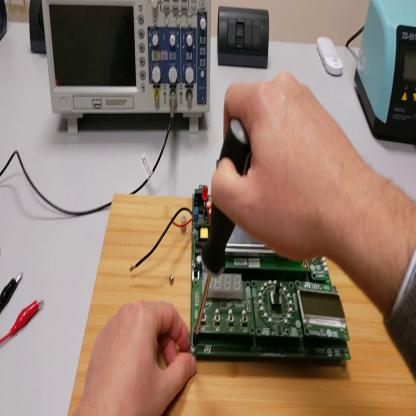hand: (213, 73, 355, 261), (85, 296, 199, 414)
low voltage board: (130, 187, 351, 362)
oscilloscope: (42, 2, 213, 137)
screwdriver-: (192, 122, 251, 350)
socket: (30, 2, 47, 55), (1, 1, 9, 42)
welder station: (356, 3, 416, 148)
working area: (68, 197, 416, 416)
